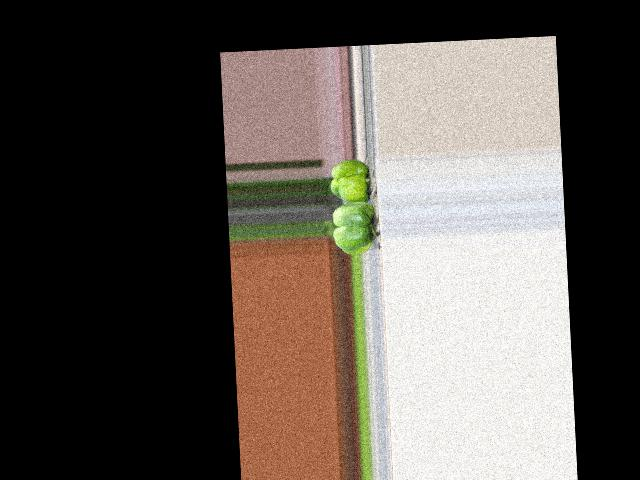bell_pepper: (327, 157, 373, 204)
